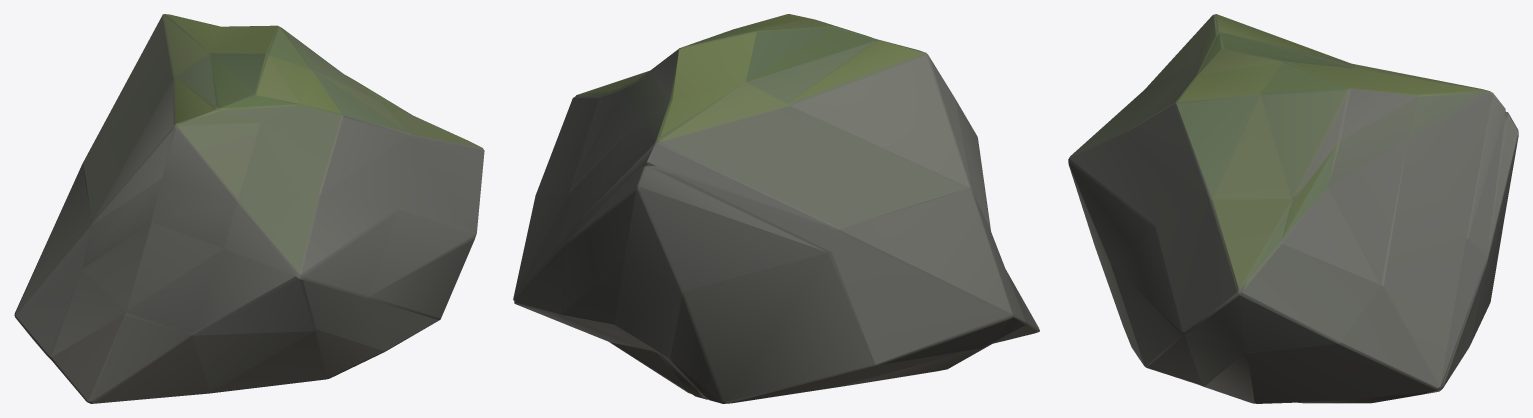
Rendered from rock_b_lod1.glb.
3 views of the same model, side by side, from view 1: azimuth 30°, elevation 25°; view 2: azimuth 150°, elevation 25°; view 3: azimuth 270°, elevation 25° (orthographic). The views are drawn at different scales.
Parts seen in each view (by area): view 1: rock_b_lod1; view 2: rock_b_lod1; view 3: rock_b_lod1.
Part boxes in pixels (left/top/right/bottom): rock_b_lod1: left=14, top=14, right=484, bottom=403; rock_b_lod1: left=513, top=14, right=1039, bottom=403; rock_b_lod1: left=1068, top=14, right=1518, bottom=403.
Size of the model in its own units: 1.82 by 1.06 by 1.55.
